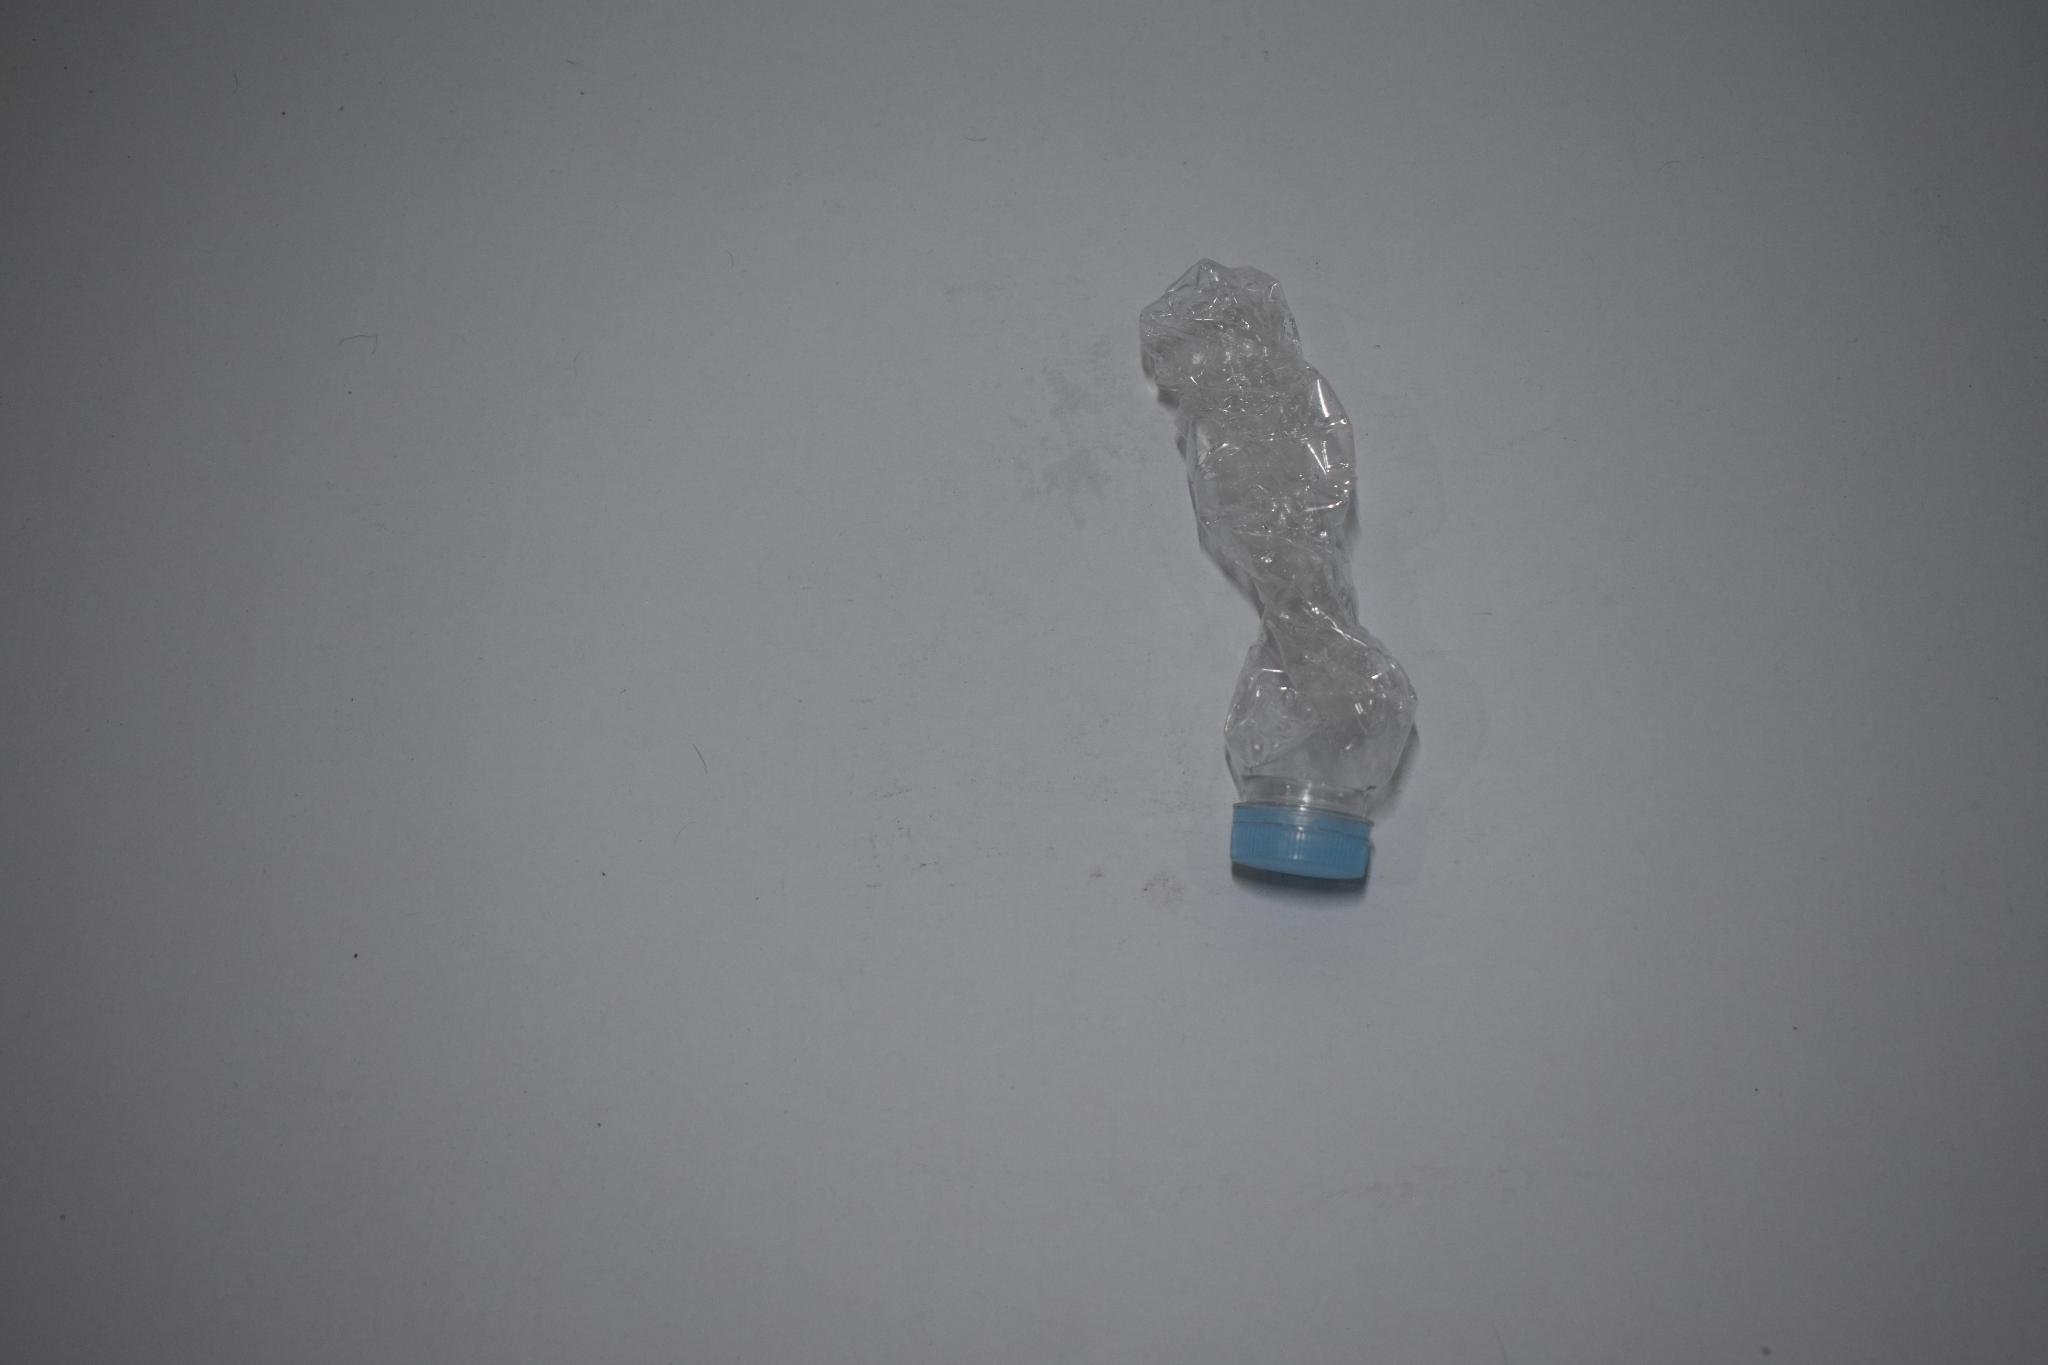bottle: (1133, 235, 1439, 931)
